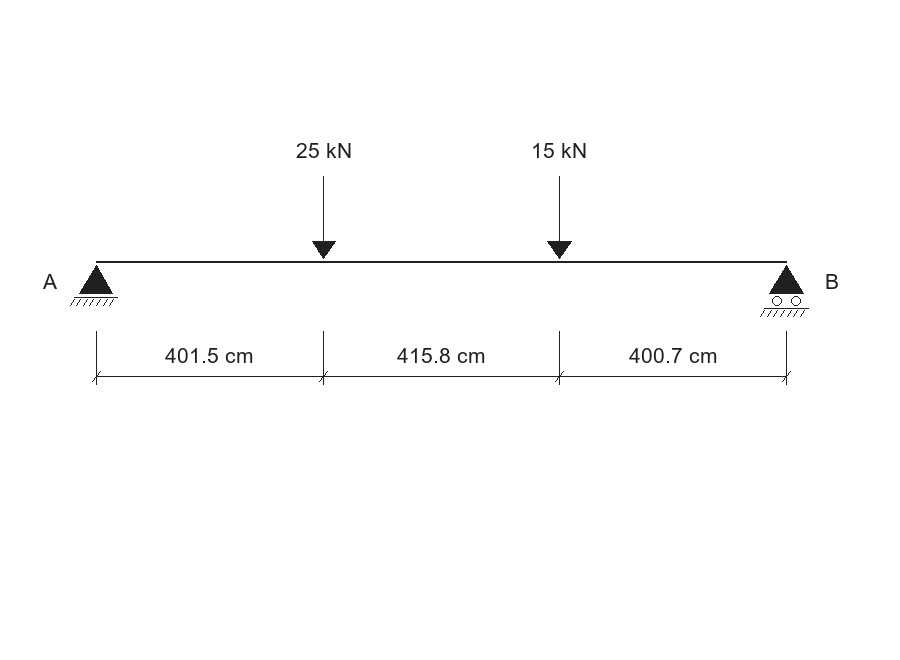pin_support: (70, 265, 118, 306)
point_load: (547, 176, 572, 259), (312, 176, 336, 259)
roller_support: (760, 265, 809, 317)
